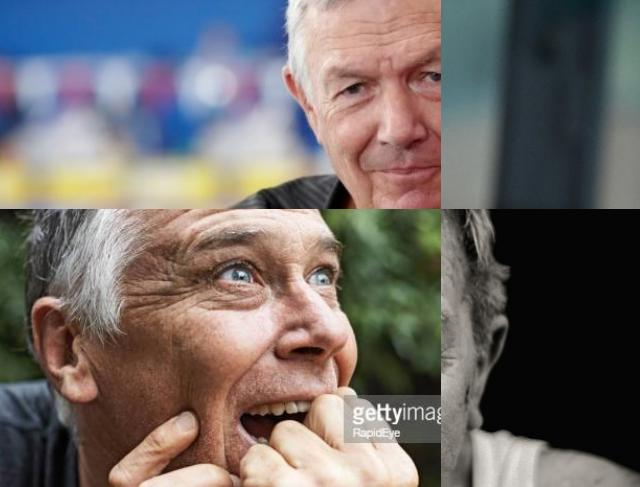chin: (363, 182, 381, 204)
crows_feet: (172, 274, 208, 308), (318, 95, 337, 118), (441, 344, 455, 370)
forehead: (362, 16, 400, 50), (416, 9, 441, 31), (324, 26, 358, 42), (265, 209, 302, 222), (189, 209, 227, 220)
frown_line: (374, 52, 396, 72)
gummy_smile: (350, 136, 376, 168), (434, 129, 441, 160)
